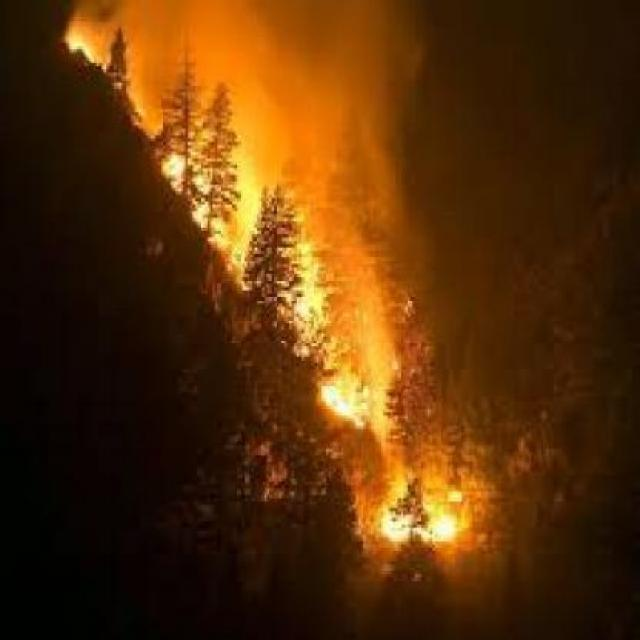Fire: (144, 96, 474, 590)
